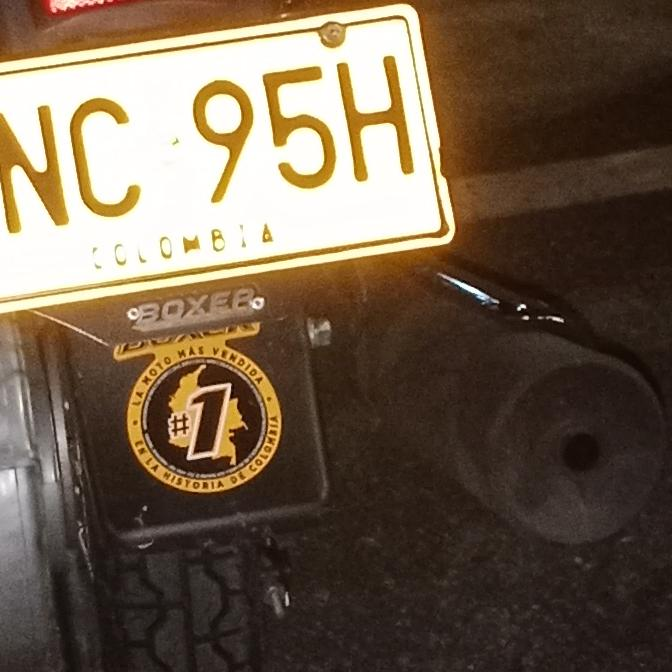plates: (0, 17, 460, 314)
